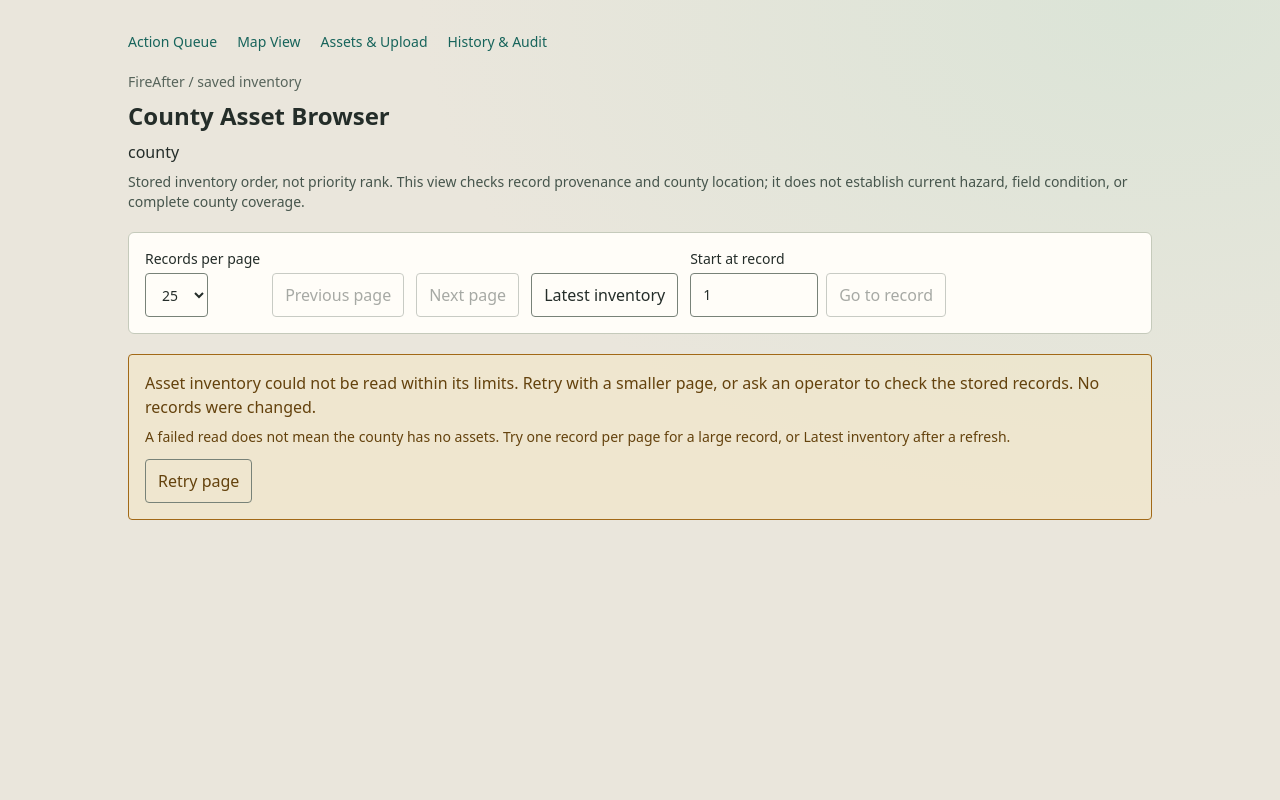
Test case: recovers from a failed page using a smaller size without claiming zero assets
The image size is (1280, 800).
Step 1. Select "1" in the dropdown labelled "Records per page" → (176, 295), box [145,273,208,317]
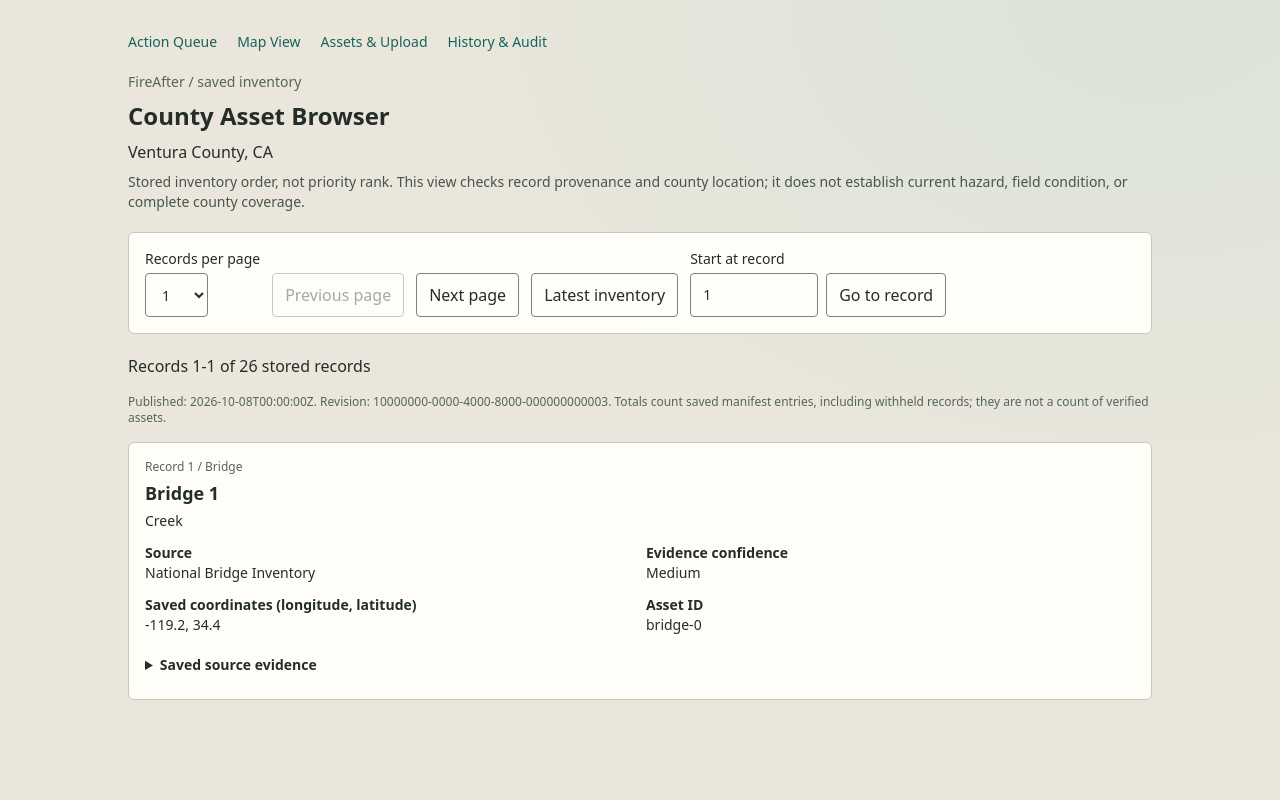
Expected: the heading "Bridge 1" is shown, [145,481,219,505]
